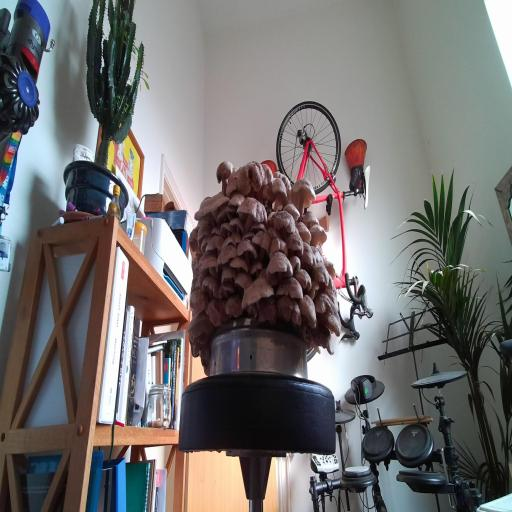Shiitake Mushroom: (228, 265, 284, 328), (301, 285, 355, 343), (226, 150, 275, 208), (277, 168, 327, 221), (258, 200, 306, 244), (189, 190, 235, 225), (235, 189, 269, 235), (229, 231, 266, 273), (293, 289, 325, 336), (248, 160, 278, 207), (270, 293, 310, 327), (292, 237, 321, 277), (249, 223, 277, 264), (203, 291, 231, 331), (319, 276, 348, 314), (210, 153, 236, 195), (183, 309, 219, 339), (307, 258, 336, 294), (288, 263, 320, 295), (283, 226, 308, 263), (202, 227, 227, 262), (296, 205, 325, 235), (312, 324, 336, 355), (199, 271, 223, 302), (267, 250, 293, 278), (293, 215, 315, 247), (279, 197, 305, 224), (190, 219, 218, 244), (269, 166, 297, 191), (275, 276, 304, 300), (212, 242, 241, 266), (266, 176, 288, 207), (256, 296, 277, 326), (215, 216, 241, 240), (255, 266, 282, 289), (319, 252, 341, 280), (223, 292, 244, 321), (190, 286, 210, 315), (225, 212, 250, 234), (199, 253, 218, 281), (222, 174, 242, 200), (309, 221, 328, 247), (232, 271, 255, 290), (197, 229, 214, 254), (308, 243, 325, 267), (269, 236, 288, 257), (218, 263, 239, 281), (307, 278, 322, 302), (199, 346, 211, 375), (288, 251, 303, 274), (217, 281, 236, 299), (227, 229, 246, 247), (227, 191, 247, 208), (188, 226, 200, 253), (230, 255, 249, 272), (217, 206, 237, 222), (249, 259, 263, 277), (267, 225, 282, 239), (250, 221, 267, 233), (221, 236, 237, 248), (193, 263, 200, 278), (242, 231, 255, 239), (212, 225, 220, 235)
